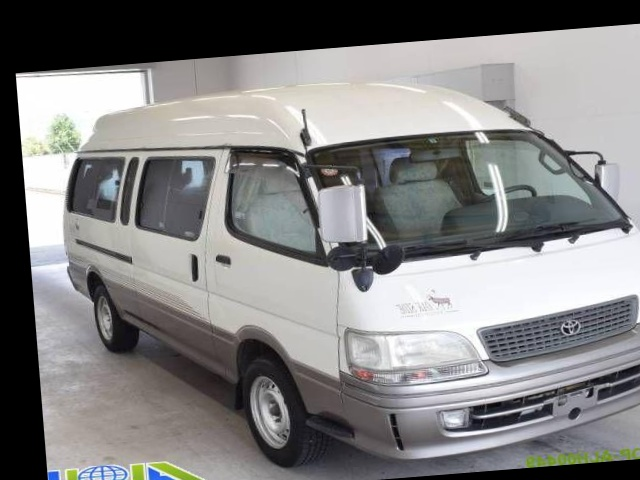van: (49, 60, 640, 464)
